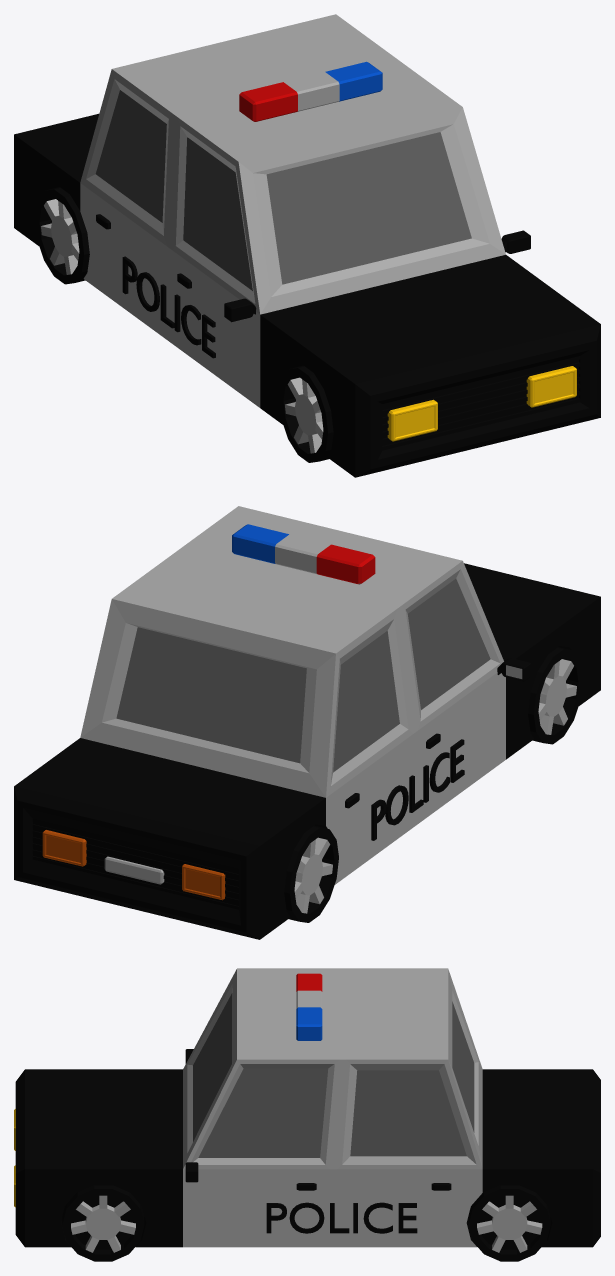
The model's file is fl_wheel_6.glb.
3 renders of one model, top to bottom at view 1: azimuth 30°, elevation 25°; view 2: azimuth 150°, elevation 25°; view 3: azimuth 270°, elevation 25°, orthographic. The views are drawn at different scales.
Parts seen in each view (by area): view 1: FL WHEEL.010_BODY.021_0; view 2: FL WHEEL.010_BODY.021_0; view 3: FL WHEEL.010_BODY.021_0.
Boxes of the visible parts, bbox=[...] form: FL WHEEL.010_BODY.021_0: bbox=[14, 14, 600, 477]; FL WHEEL.010_BODY.021_0: bbox=[14, 506, 600, 939]; FL WHEEL.010_BODY.021_0: bbox=[14, 968, 600, 1261].
Bounding box in the file's own units: 0.2547 × 0.2064 × 0.5179.
1 material, 1 textured.
